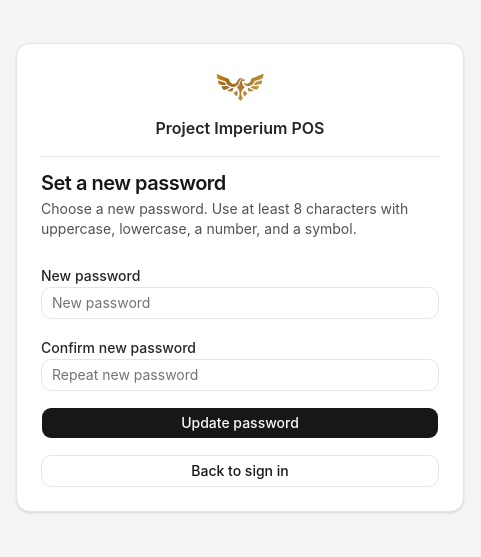
ResetPasswordPage › shows API error in an alert
Type "ValidPass1!" into the password field labelled "New password" at (240,302), box x1=41 y1=286 x2=439 y2=318
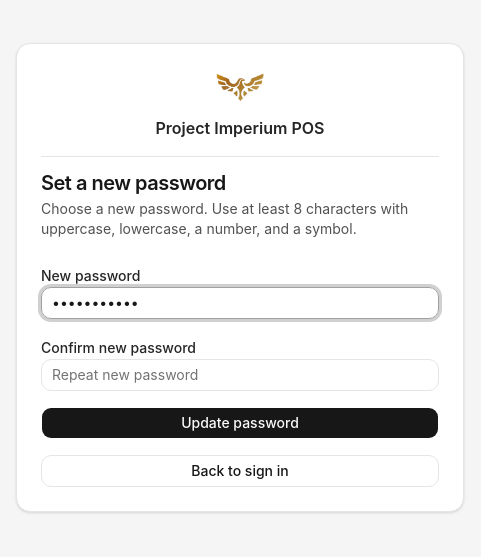
Type "ValidPass1!" into the password field labelled "Confirm new password" at (240,374), box x1=41 y1=358 x2=439 y2=390
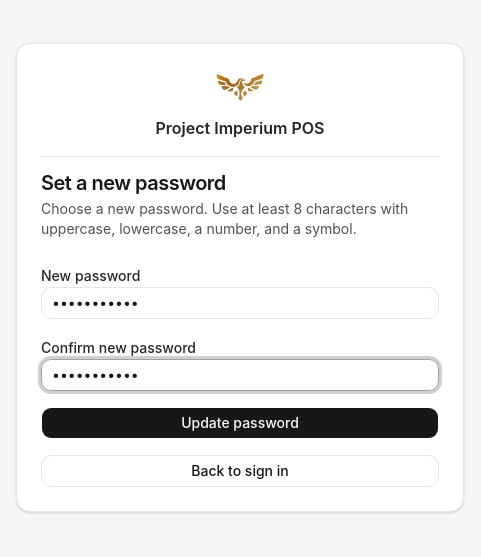
Click the button "Update password" at (240,422), box x1=41 y1=406 x2=439 y2=438
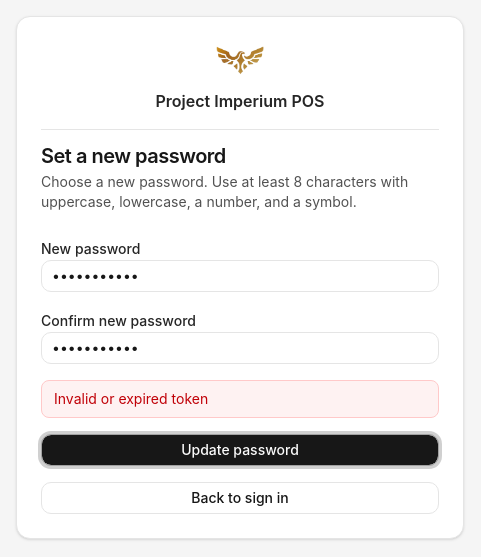
expect the text "Invalid or expired token" is shown: met, box x1=41 y1=380 x2=439 y2=418
